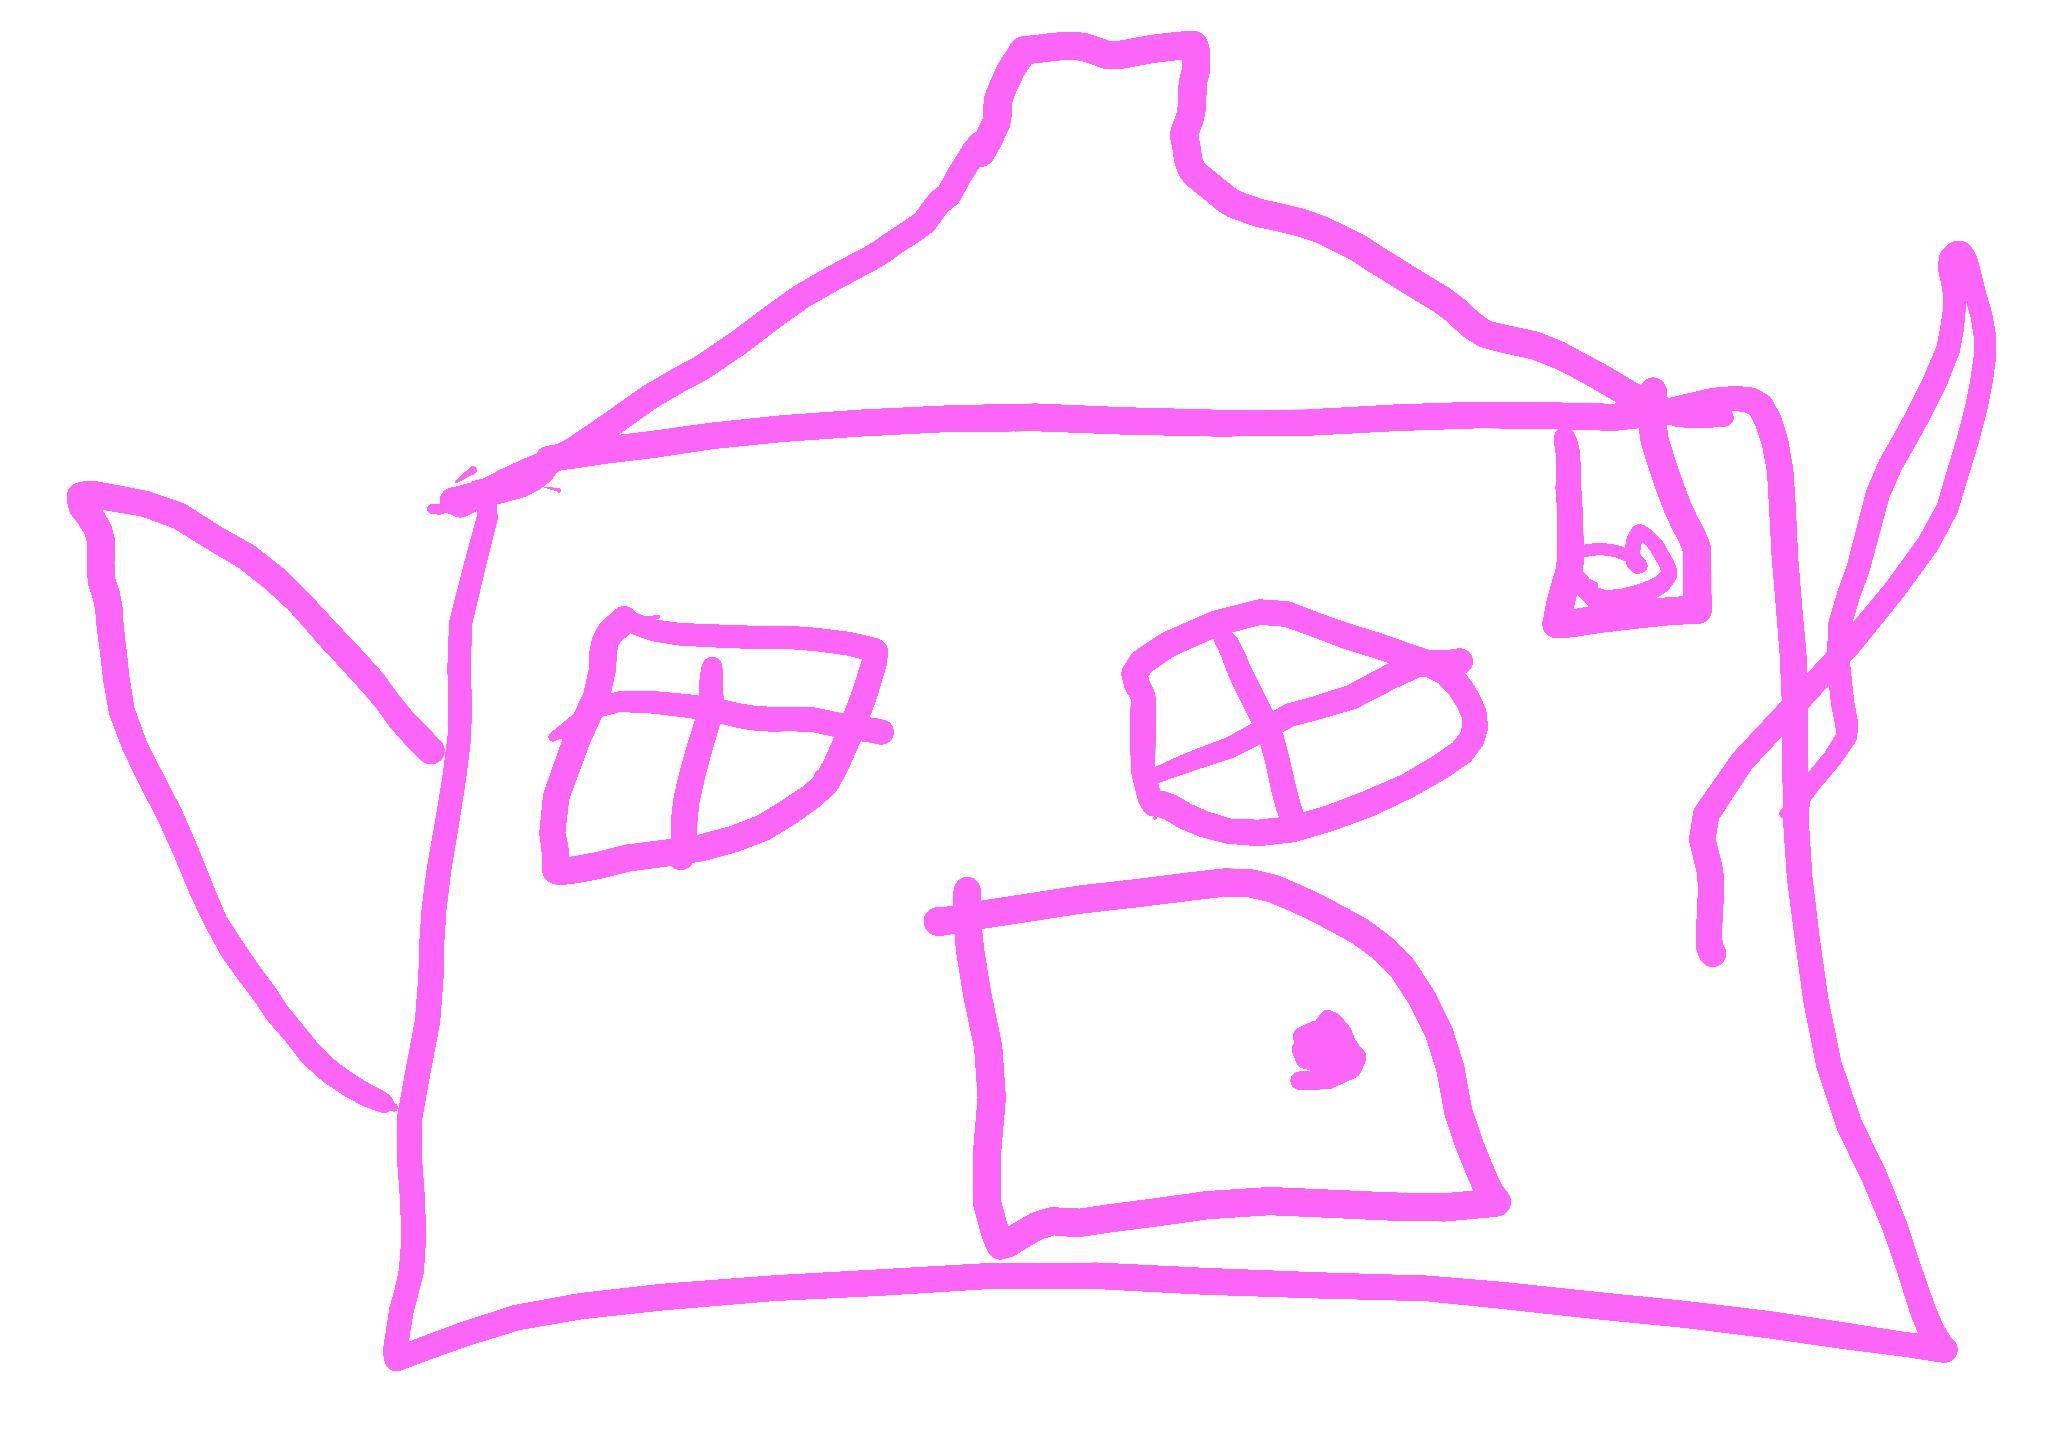door: (925, 869, 1513, 1259)
house: (64, 28, 2001, 1371)
roof: (444, 25, 1722, 499)
wall: (383, 390, 1957, 1374)
window: (539, 607, 892, 884), (1124, 599, 1490, 844)
